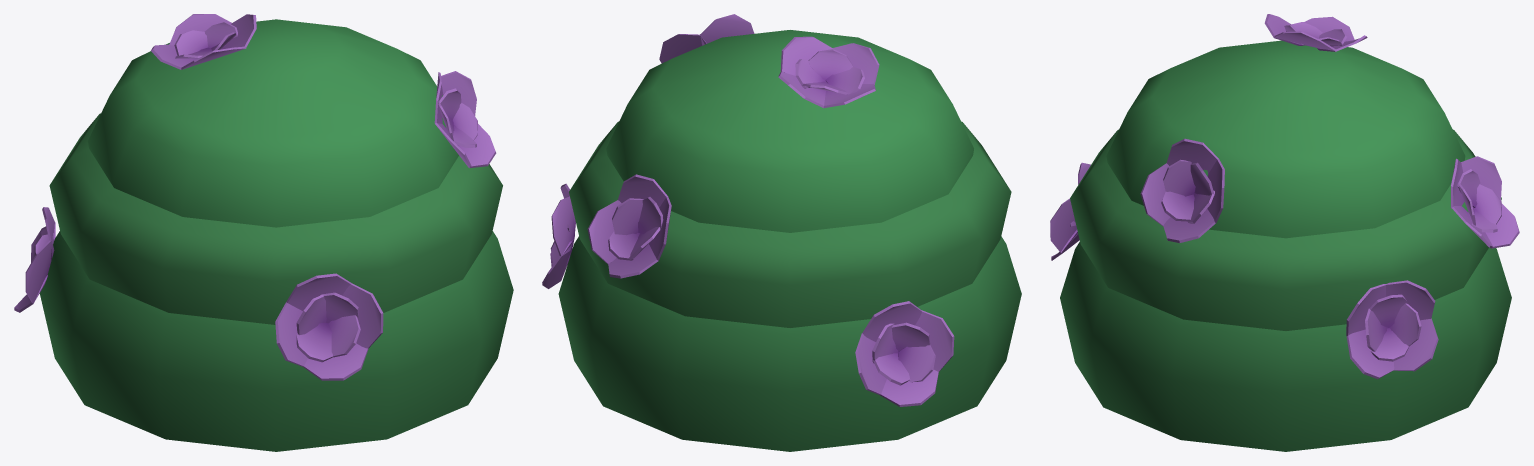
Rendered from bush_round_flowers.fbx.
The picture shows the model from 3 angles, left to right: view 1: azimuth 30°, elevation 25°; view 2: azimuth 150°, elevation 25°; view 3: azimuth 270°, elevation 25°; orthographic projection. The views are drawn at different scales.
Parts seen in each view (by area): view 1: bush_round_flowers; view 2: bush_round_flowers; view 3: bush_round_flowers.
Part boxes in pixels (box(x1,y1,x2,y2)): bush_round_flowers: box(14, 14, 513, 451); bush_round_flowers: box(542, 14, 1021, 451); bush_round_flowers: box(1050, 14, 1519, 451).
Size of the model in its own units: 2.53 by 1.99 by 2.61.
Materials: 1 (1 with a texture image).
